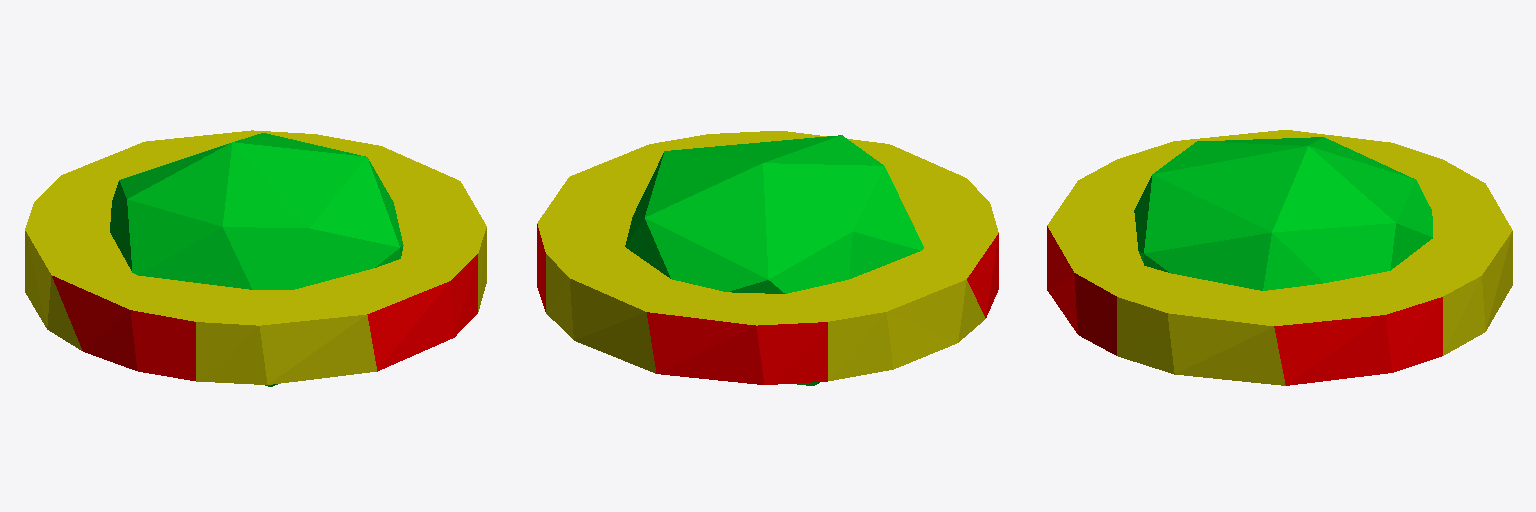
The model's file is ufo.obj.
3 renders of one model, left to right at view 1: azimuth 30°, elevation 25°; view 2: azimuth 150°, elevation 25°; view 3: azimuth 270°, elevation 25°, orthographic.
Visible parts, largest first — view 1: Cylinder, Sphere; view 2: Cylinder, Sphere; view 3: Cylinder, Sphere.
Boxes of the visible parts, <box> form: Cylinder: <box>25,130,486,384</box>; Sphere: <box>110,133,403,386</box>; Cylinder: <box>537,131,998,384</box>; Sphere: <box>625,135,923,385</box>; Cylinder: <box>1047,130,1512,385</box>; Sphere: <box>1134,137,1432,290</box>.
Size of the model in its own units: 2.83 by 1.42 by 2.83.